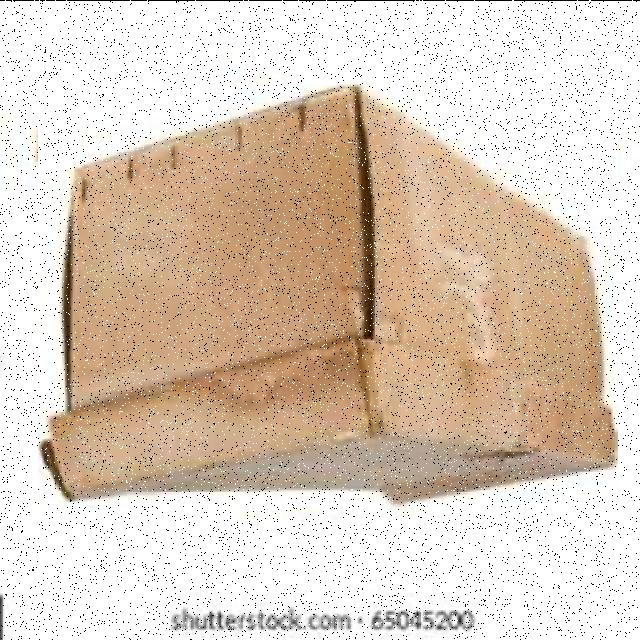defect: (39, 83, 618, 509)
